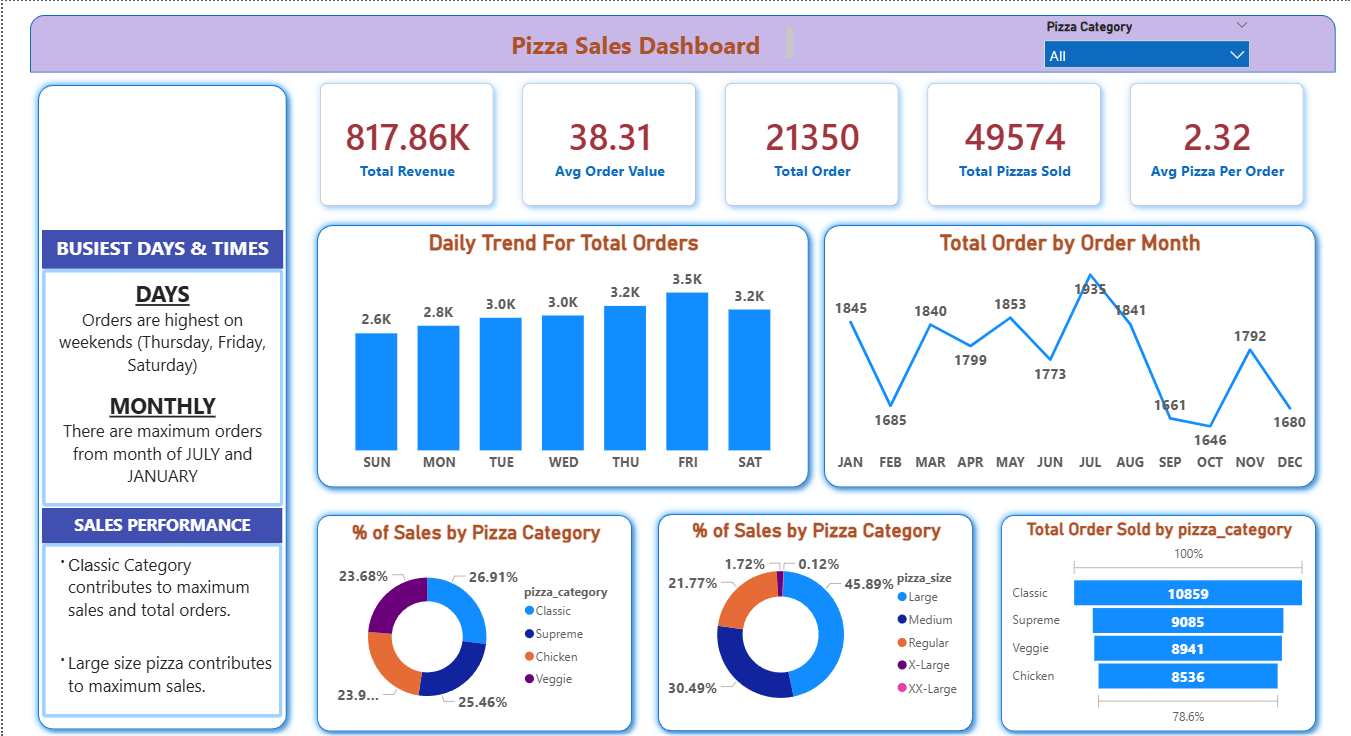

This screenshot's page, from the dashboard's own definition file:
{"tool":"powerbi","page":{"name":"Page 1","canvas":[1500,820],"ordinal":0},"visuals":[{"type":"cardVisual","fields":{"Data":["pizza_sales.Total Revenue","pizza_sales.Avg Order Value","pizza_sales.Total Order","pizza_sales.Total Pizzas Sold","pizza_sales.Avg Pizza Per Order"]},"box":[324.5,79.2,1156.5,160.4],"z":0},{"type":"shape","box":[30.2,15.1,1450.8,64.1],"z":1000},{"type":"textbox","box":[530.1,24.5,352.8,45.3],"z":2000},{"type":"shape","box":[339.6,239.6,564.1,309.4],"z":3000},{"type":"columnChart","title":"Daily Trend For Total Orders","fields":{"Category":["pizza_sales.Order Day"],"Y":["pizza_sales.Total Order"]},"box":[358.4,254.7,528.2,279.2],"z":4000},{"type":"shape","box":[903.7,239.6,564.1,309.4],"z":5000},{"type":"lineChart","fields":{"Category":["pizza_sales.Order Month"],"Y":["pizza_sales.Total Order"]},"box":[918.7,254.7,533.9,279.2],"z":6000},{"type":"shape","box":[339.6,562.2,367.9,258.5],"z":7000},{"type":"shape","box":[718.8,560.8,367.7,259.2],"z":8000},{"type":"shape","box":[1099.9,562.2,367.9,258.5],"z":9000},{"type":"donutChart","title":"% of Sales by Pizza Category","fields":{"Y":["pizza_sales.Total Revenue"],"Category":["pizza_sales.pizza_category"]},"box":[358.4,577.3,333.9,232],"z":10000},{"type":"donutChart","title":"% of Sales by Pizza Category","fields":{"Y":["pizza_sales.Total Revenue"],"Category":["pizza_sales.pizza_size"]},"box":[730.2,575.2,348,231.3],"z":11000},{"type":"funnel","title":"Total Order Sold by pizza_category","fields":{"Y":["pizza_sales.Total Order"],"Category":["pizza_sales.pizza_category"]},"box":[1116.4,575.2,336.7,234.4],"z":12000},{"type":"shape","box":[30.2,84.9,294.3,733.9],"z":13000},{"type":"textbox","box":[43.4,254.7,267.9,43.4],"z":14000},{"type":"textbox","box":[43.4,298.1,267.9,264.1],"z":15000},{"type":"textbox","box":[43.4,562.8,267.5,39.2],"z":16000},{"type":"textbox","box":[43.4,602.1,267.5,194.2],"z":17000},{"type":"slicer","fields":{"Values":["pizza_sales.pizza_category"]},"box":[1146.3,15.5,248.9,64],"z":17001}]}

Visuals, with their boxes in screenshot pixels (x1, y1, x2, y2), scaled from the page's 1500x820 canvas onto the 1351x736 screenshot:
cardVisual - pizza_sales.Total Revenue x pizza_sales.Avg Order Value: {"x1": 292, "y1": 71, "x2": 1334, "y2": 215}
shape: {"x1": 27, "y1": 14, "x2": 1334, "y2": 71}
textbox: {"x1": 477, "y1": 22, "x2": 795, "y2": 63}
shape: {"x1": 306, "y1": 215, "x2": 814, "y2": 493}
"Daily Trend For Total Orders" columnChart: {"x1": 323, "y1": 229, "x2": 799, "y2": 479}
shape: {"x1": 814, "y1": 215, "x2": 1322, "y2": 493}
lineChart - pizza_sales.Order Month x pizza_sales.Total Order: {"x1": 827, "y1": 229, "x2": 1308, "y2": 479}
shape: {"x1": 306, "y1": 505, "x2": 637, "y2": 735}
shape: {"x1": 647, "y1": 503, "x2": 979, "y2": 735}
shape: {"x1": 991, "y1": 505, "x2": 1322, "y2": 735}
"% of Sales by Pizza Category" donutChart: {"x1": 323, "y1": 518, "x2": 624, "y2": 726}
"% of Sales by Pizza Category" donutChart: {"x1": 658, "y1": 516, "x2": 971, "y2": 724}
"Total Order Sold by pizza_category" funnel: {"x1": 1006, "y1": 516, "x2": 1309, "y2": 727}
shape: {"x1": 27, "y1": 76, "x2": 292, "y2": 735}
textbox: {"x1": 39, "y1": 229, "x2": 280, "y2": 268}
textbox: {"x1": 39, "y1": 268, "x2": 280, "y2": 505}
textbox: {"x1": 39, "y1": 505, "x2": 280, "y2": 540}
textbox: {"x1": 39, "y1": 540, "x2": 280, "y2": 715}
slicer - pizza_sales.pizza_category: {"x1": 1032, "y1": 14, "x2": 1257, "y2": 71}
